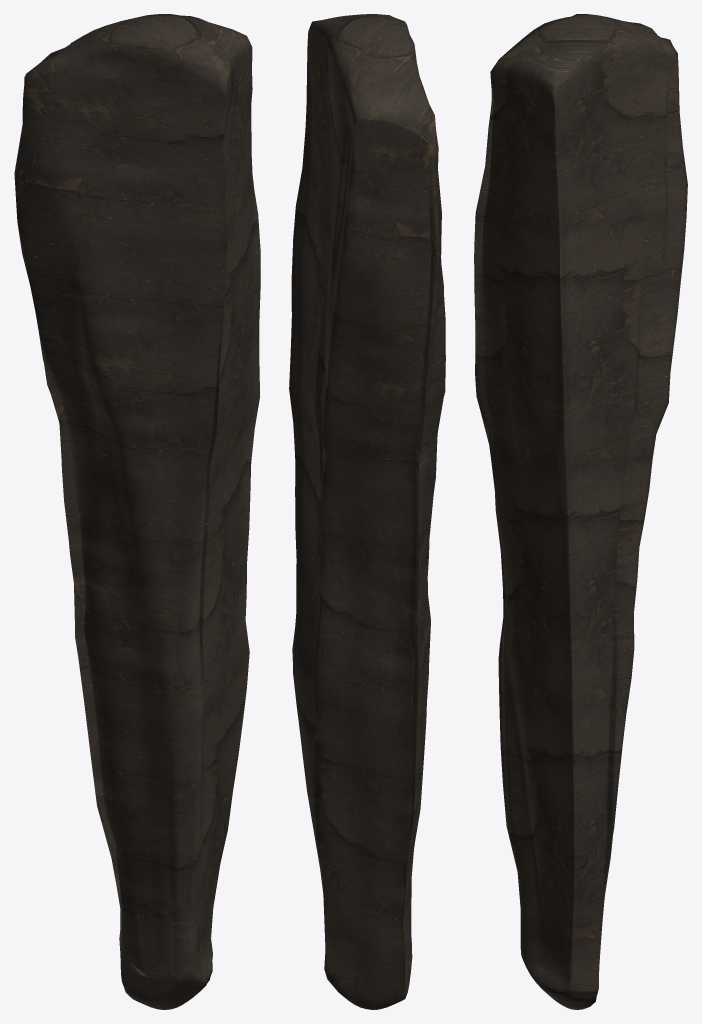
Rendered from cliff_pillar_a_lod0.gltf.
3 views of the same model, side by side, from view 1: azimuth 30°, elevation 25°; view 2: azimuth 150°, elevation 25°; view 3: azimuth 270°, elevation 25° (orthographic).
Visible parts, largest first — view 1: cliff_pillar_a_LOD0; view 2: cliff_pillar_a_LOD0; view 3: cliff_pillar_a_LOD0.
Part boxes in pixels (x1,y1,x2,y2): cliff_pillar_a_LOD0: [14, 14, 260, 1009]; cliff_pillar_a_LOD0: [289, 14, 445, 1009]; cliff_pillar_a_LOD0: [474, 14, 687, 1009].
Bounding box in the file's own units: 7.15 × 34 × 6.73.
1 material, 1 textured.
